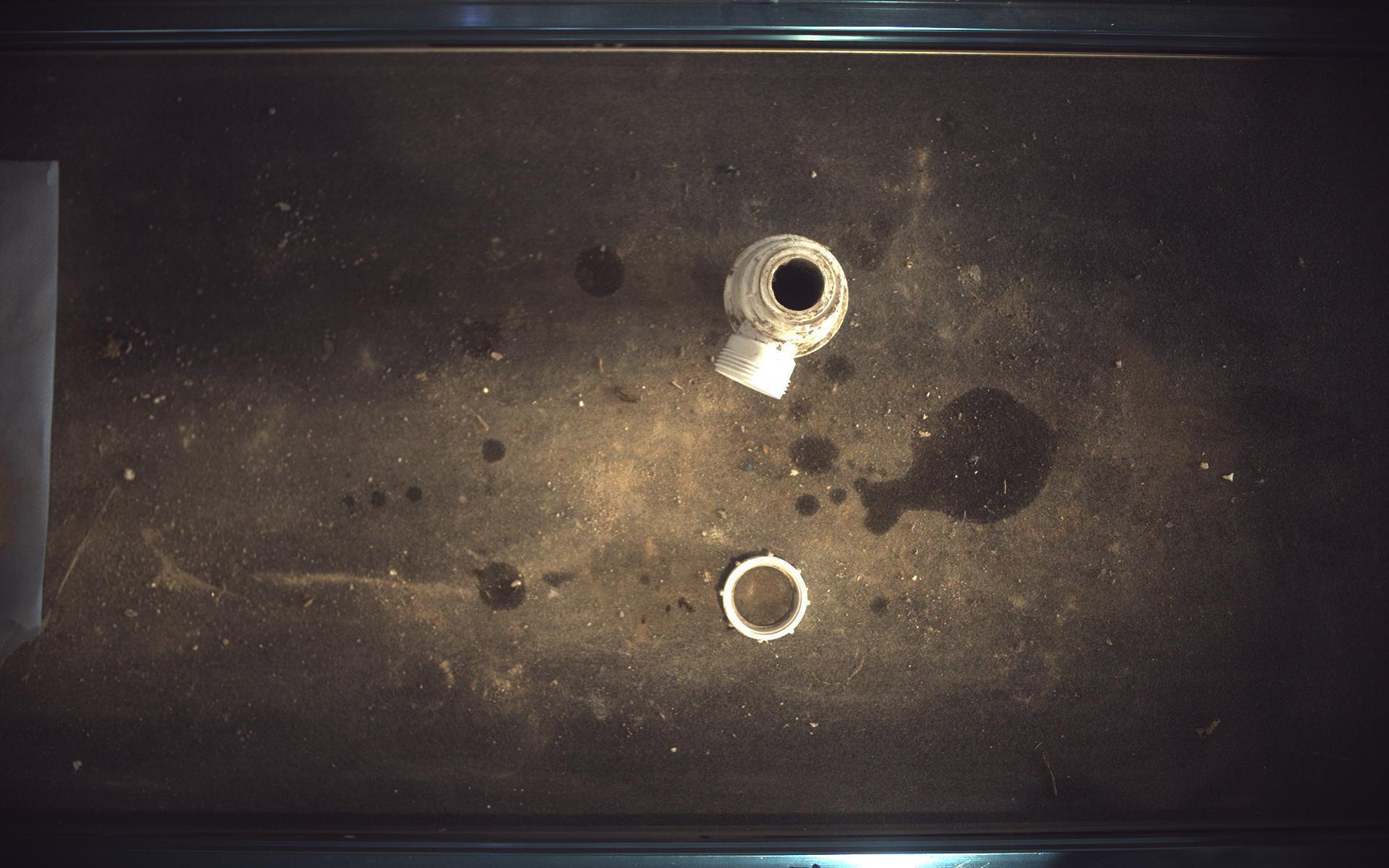plastic: (716, 234, 851, 399), (722, 556, 810, 642)
